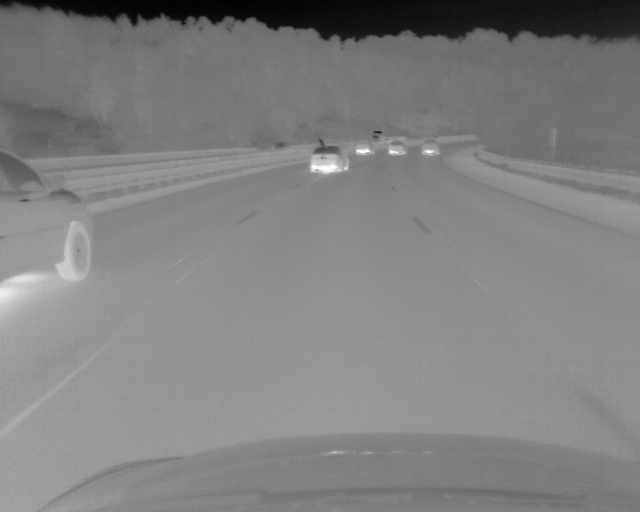car: (1, 148, 93, 284), (310, 131, 349, 173), (355, 139, 375, 156), (421, 139, 440, 155), (387, 141, 407, 155), (273, 142, 289, 150)
